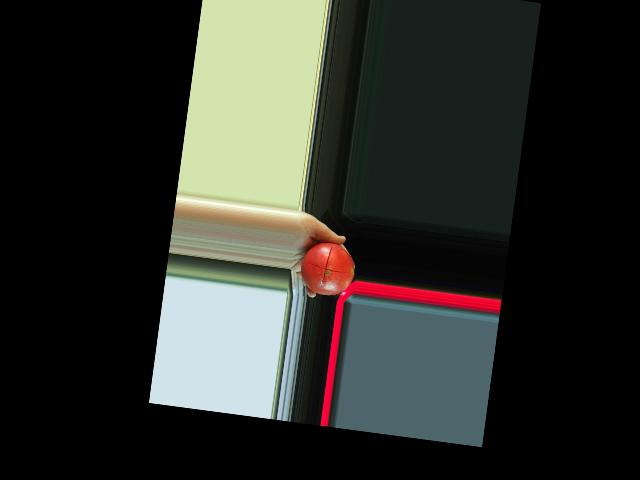tomato: (297, 239, 357, 299)
